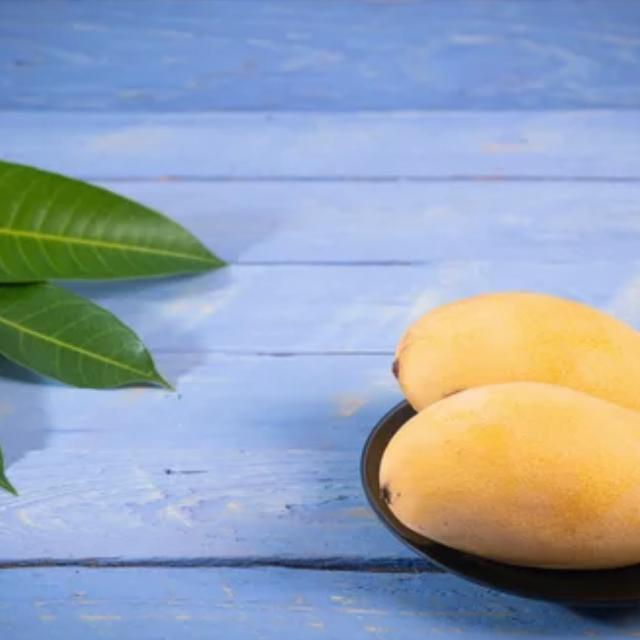mango: (373, 383, 640, 563), (395, 287, 640, 459)
